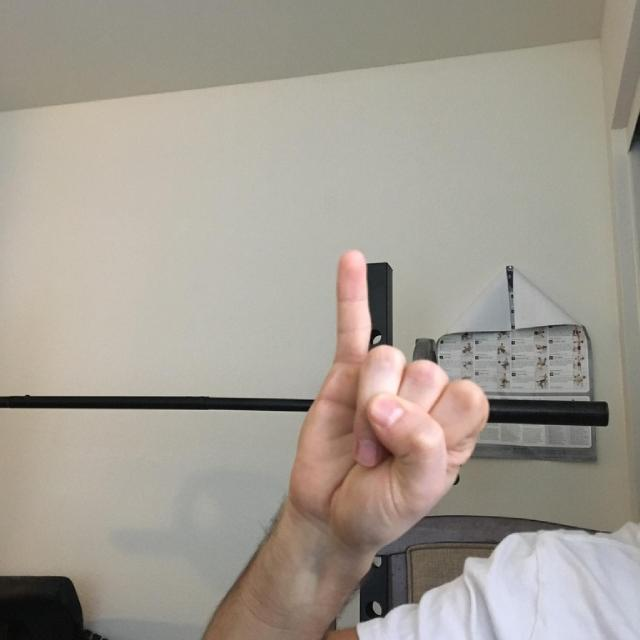I: (247, 165, 493, 627)
